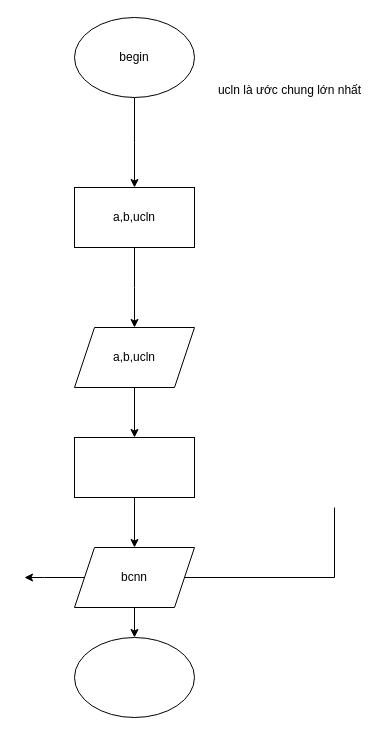
The diagram is 392 pixels wide and 735 high, and some of its shapes have lost their labels. The shapes that lost their labels are listed below. From the top down, each one's centre as x and y in pixels, then its label:
[134,467]: a*b/ucln
[134,677]: end
